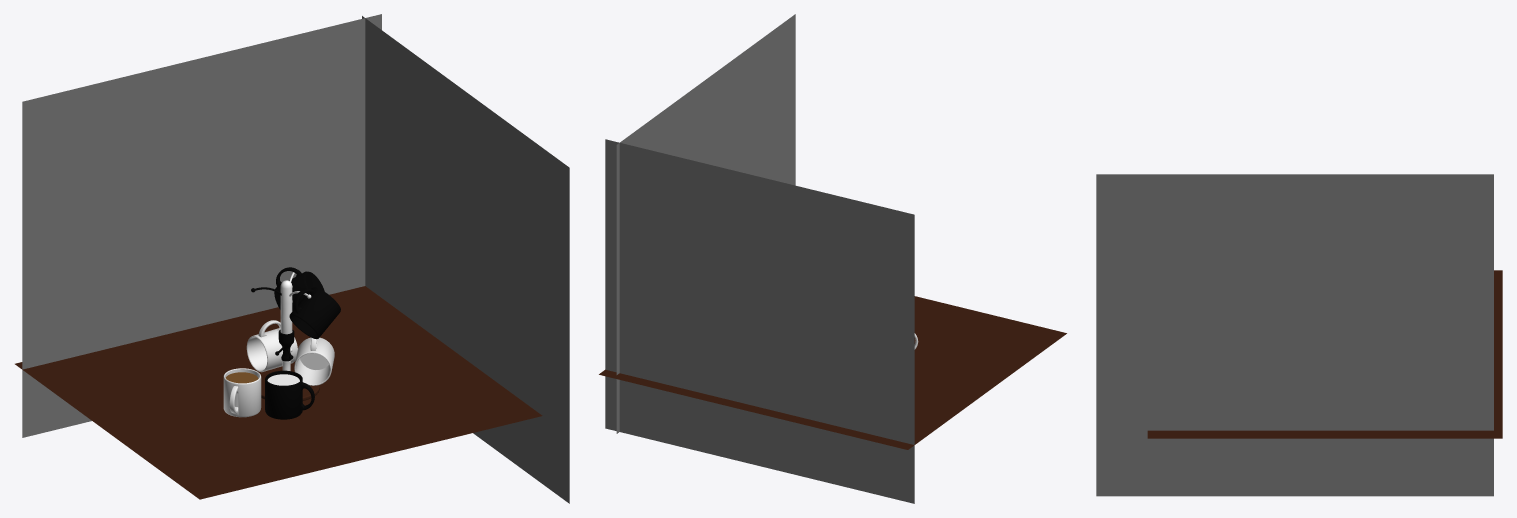
Rendered from coffee.FBX.
The picture shows the model from 3 angles, left to right: view 1: azimuth 30°, elevation 25°; view 2: azimuth 150°, elevation 25°; view 3: azimuth 270°, elevation 25°; orthographic projection. The views are drawn at different scales.
Visible parts, largest first — view 1: Plane002, Plane003, Plane001, ChamferCyl006, ChamferCyl003, ChamferCyl002, ChamferCyl001, ChamferCyl008, ChamferCyl010, ChamferCyl007; view 2: Plane002, Plane003, Plane001; view 3: Plane003, Plane001.
Boxes of the visible parts, x1,y1,x2,y2 form: Plane002: (22, 14, 381, 437); Plane003: (362, 16, 569, 503); Plane001: (15, 286, 542, 499); ChamferCyl006: (289, 287, 340, 339); ChamferCyl003: (265, 370, 314, 419); ChamferCyl002: (294, 337, 334, 385); ChamferCyl001: (223, 368, 261, 417); ChamferCyl008: (246, 320, 297, 372); ChamferCyl010: (274, 267, 324, 310); ChamferCyl007: (280, 280, 292, 334); Plane002: (605, 139, 914, 503); Plane003: (616, 14, 795, 433); Plane001: (599, 296, 1066, 449); Plane003: (1096, 174, 1493, 496); Plane001: (1147, 270, 1502, 438).
Size of the model in its own units: 49.63 by 44.32 by 50.73.
